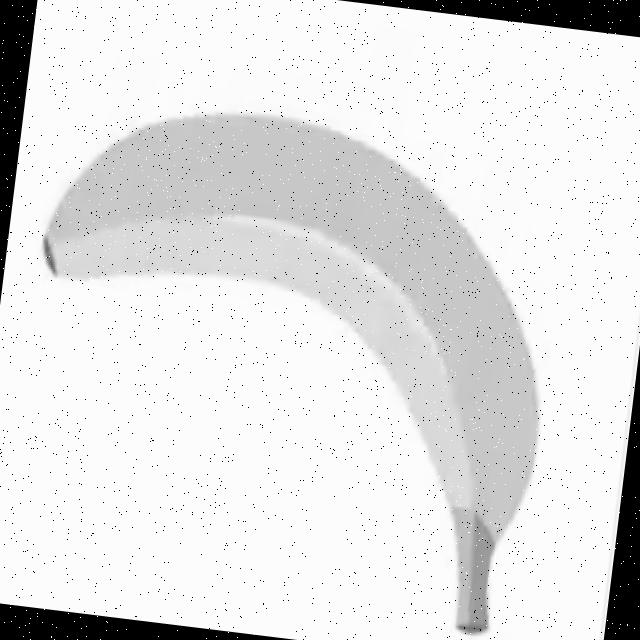Ripe: (0, 83, 577, 640)
